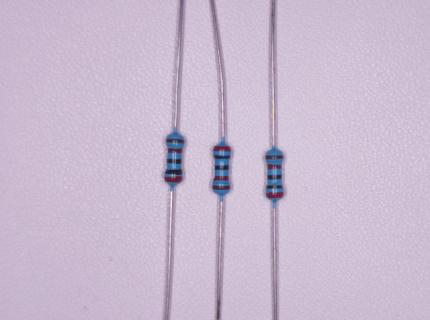Black band: (164, 169, 182, 175), (167, 159, 181, 164), (215, 165, 229, 170), (268, 175, 282, 180), (214, 155, 230, 159), (266, 185, 283, 188)
Brown band: (167, 138, 184, 143), (212, 186, 230, 190), (265, 155, 283, 159)
Red band: (165, 177, 183, 183), (266, 193, 283, 198), (213, 176, 229, 181), (213, 147, 231, 151), (168, 148, 182, 153), (268, 165, 281, 169)
